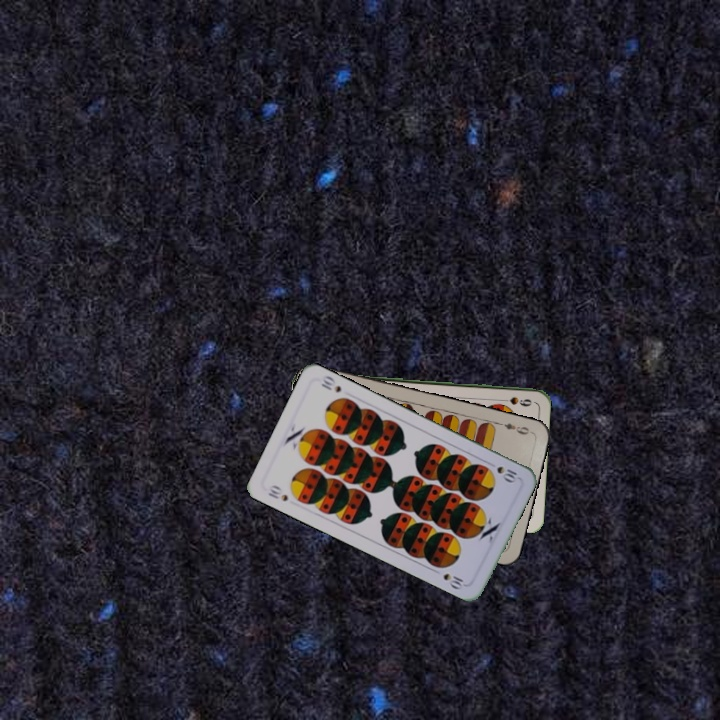E9: (494, 418, 534, 437)
S10: (492, 462, 521, 485), (264, 481, 291, 504)
S9: (494, 393, 534, 407)
